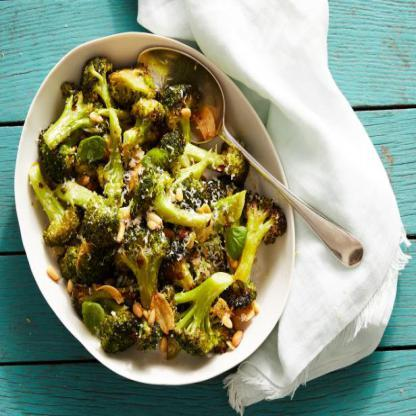broccoli: (29, 59, 288, 361)
